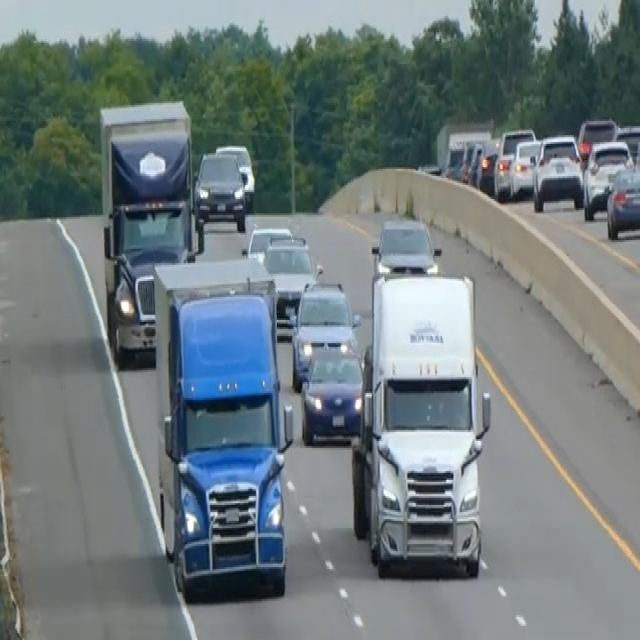car: (289, 278, 360, 390), (299, 338, 364, 444), (261, 233, 319, 329), (371, 214, 441, 278), (194, 148, 246, 231), (582, 137, 632, 220), (532, 132, 583, 212), (493, 125, 535, 199), (214, 140, 255, 208), (605, 160, 639, 240), (444, 130, 486, 183), (576, 114, 618, 162), (509, 137, 541, 197), (245, 222, 292, 260), (475, 137, 500, 194), (615, 123, 639, 165), (443, 138, 466, 180), (464, 139, 484, 185)
lorry: (151, 256, 294, 601), (349, 256, 492, 580), (96, 94, 202, 364)
